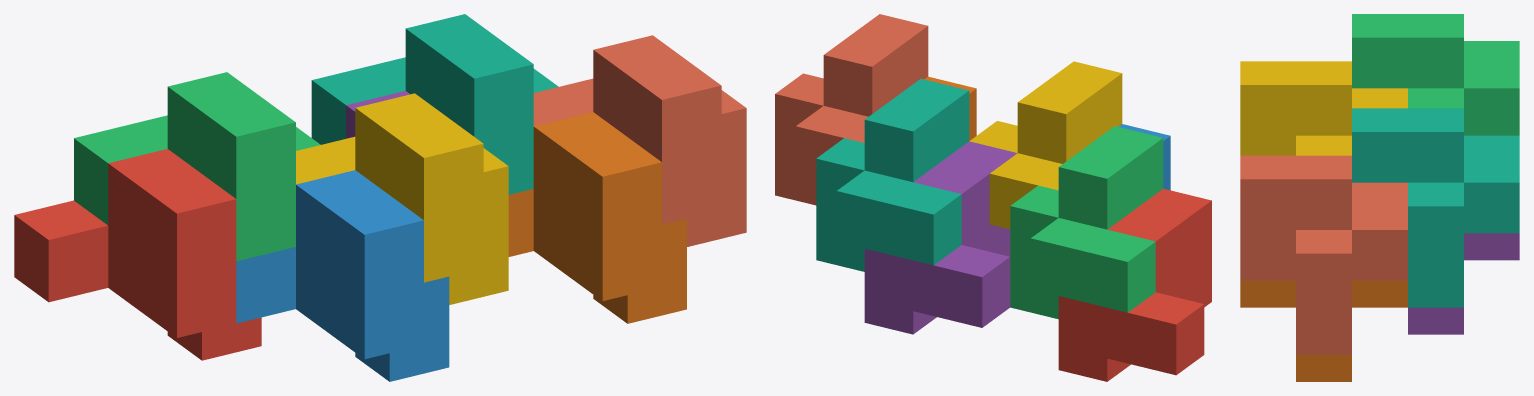
File: tiling.obj
3 views of the same model, side by side, from view 1: azimuth 30°, elevation 25°; view 2: azimuth 150°, elevation 25°; view 3: azimuth 270°, elevation 25° (orthographic). The views are drawn at different scales.
Parts seen in each view (by area): view 1: copy_1_domain_1, copy_1_domain_2, copy_1_domain_6, copy_1_domain_8, copy_1_domain_4, copy_1_domain_3, copy_1_domain_7, copy_1_domain_5; view 2: copy_1_domain_3, copy_1_domain_7, copy_1_domain_1, copy_1_domain_5, copy_1_domain_8, copy_1_domain_4, copy_1_domain_2, copy_1_domain_6; view 3: copy_1_domain_8, copy_1_domain_7, copy_1_domain_3, copy_1_domain_4, copy_1_domain_6, copy_1_domain_5.
Boxes of the visible parts, x1,y1,x2,y2 form: copy_1_domain_1: (14,149,261,360); copy_1_domain_2: (236,170,449,381); copy_1_domain_6: (508,112,686,323); copy_1_domain_8: (533,35,746,246); copy_1_domain_4: (296,93,508,304); copy_1_domain_3: (74,72,320,261); copy_1_domain_7: (311,14,558,194); copy_1_domain_5: (346,91,409,138); copy_1_domain_3: (1010,126,1163,319); copy_1_domain_7: (816,79,969,271); copy_1_domain_1: (1058,188,1211,381); copy_1_domain_5: (864,141,1017,334); copy_1_domain_8: (775,14,928,205); copy_1_domain_4: (969,61,1122,229); copy_1_domain_2: (1118,124,1170,190); copy_1_domain_6: (924,76,976,140); copy_1_domain_8: (1240,155,1407,354); copy_1_domain_7: (1352,108,1519,307); copy_1_domain_3: (1352,14,1519,135); copy_1_domain_4: (1240,61,1407,155); copy_1_domain_6: (1240,280,1407,381); copy_1_domain_5: (1408,233,1519,334).
Bounding box in the file's own units: 10 × 4 × 5.
